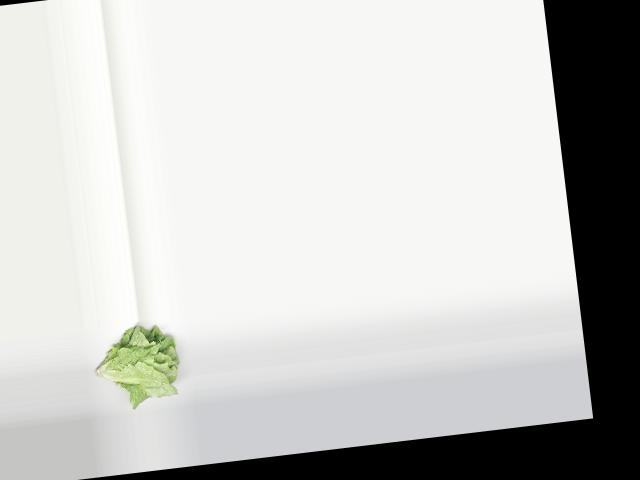lettuce: (86, 321, 188, 405)
